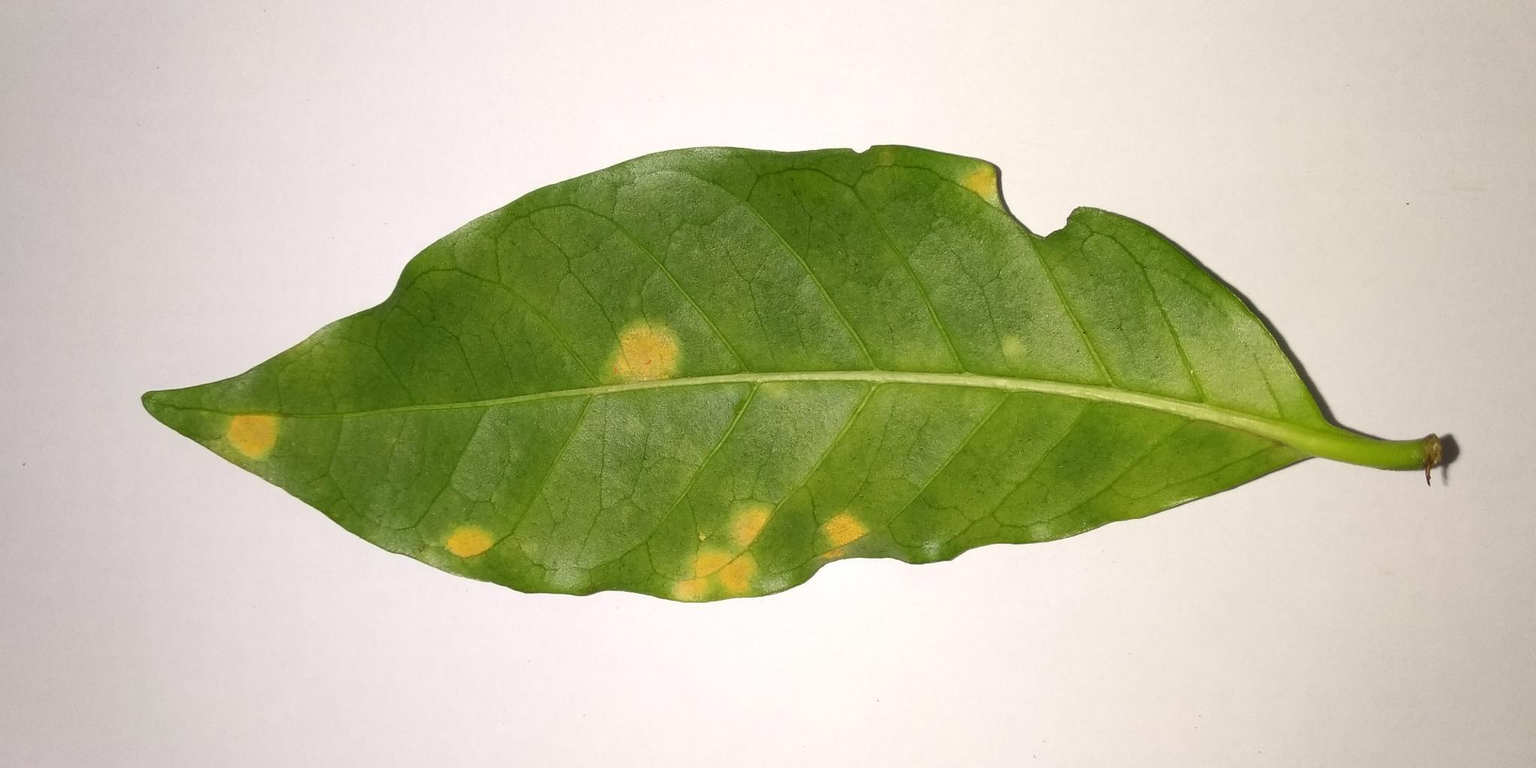Rust: (585, 302, 696, 410)
